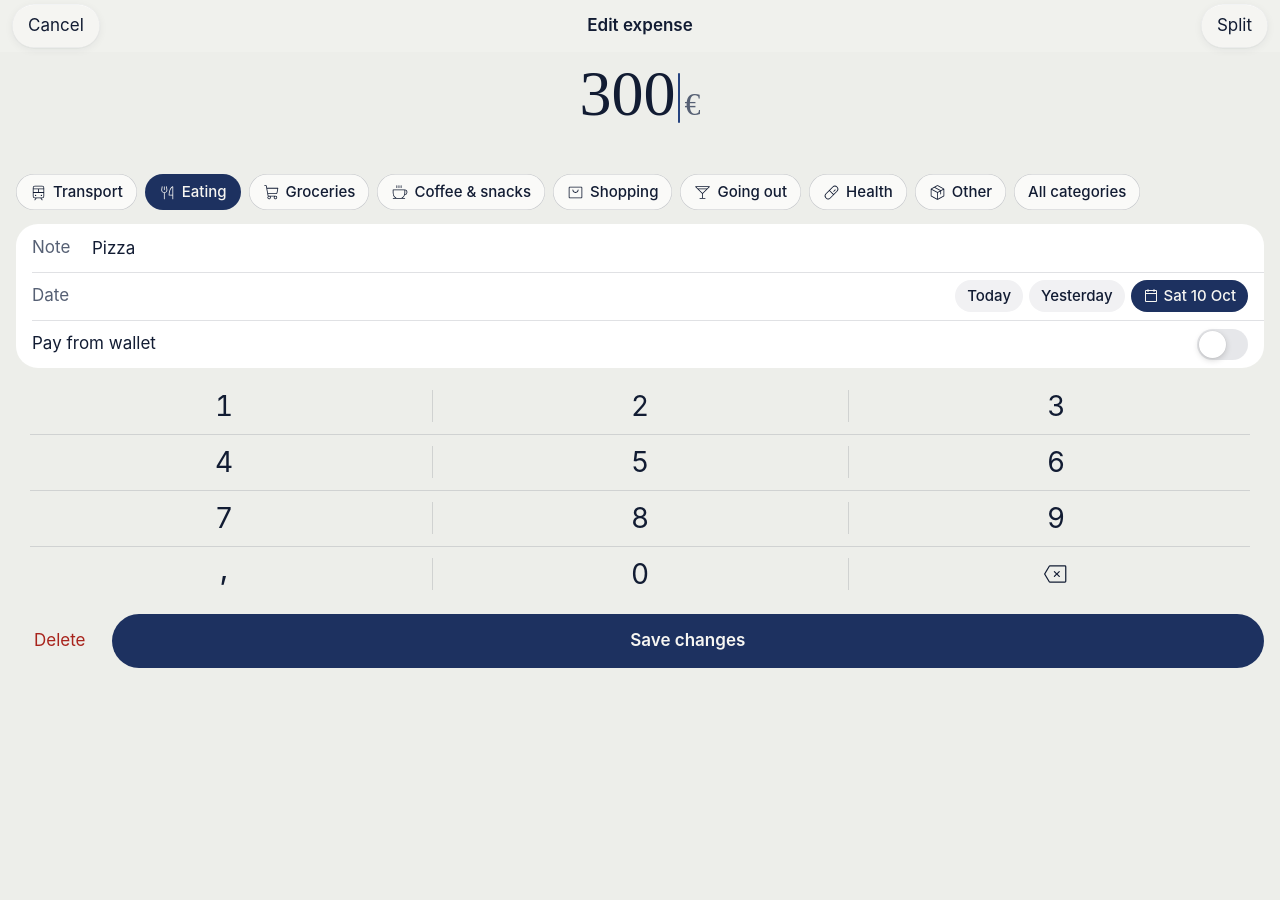
Test case: editing (§3.4) › replaces the amount with the first key and saves the change
The image size is (1280, 900).
Expected: the heading "Edit expense" is shown, [587,15,693,37]
Click the button "9". click: (1056, 518)
box: [848,490,1264,546]
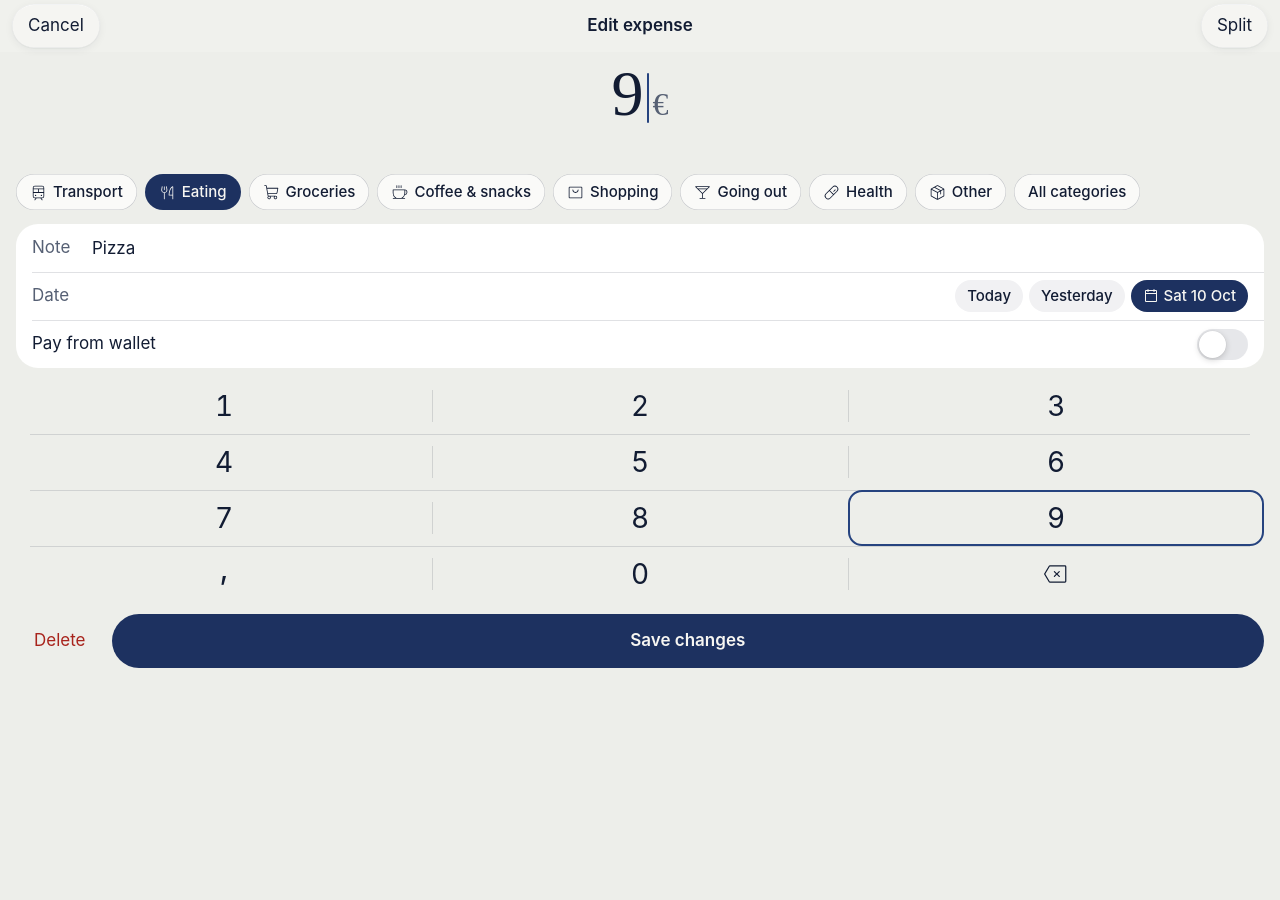
Click the button with test id "keypad-dec". click: (224, 574)
box: [16,546,432,602]
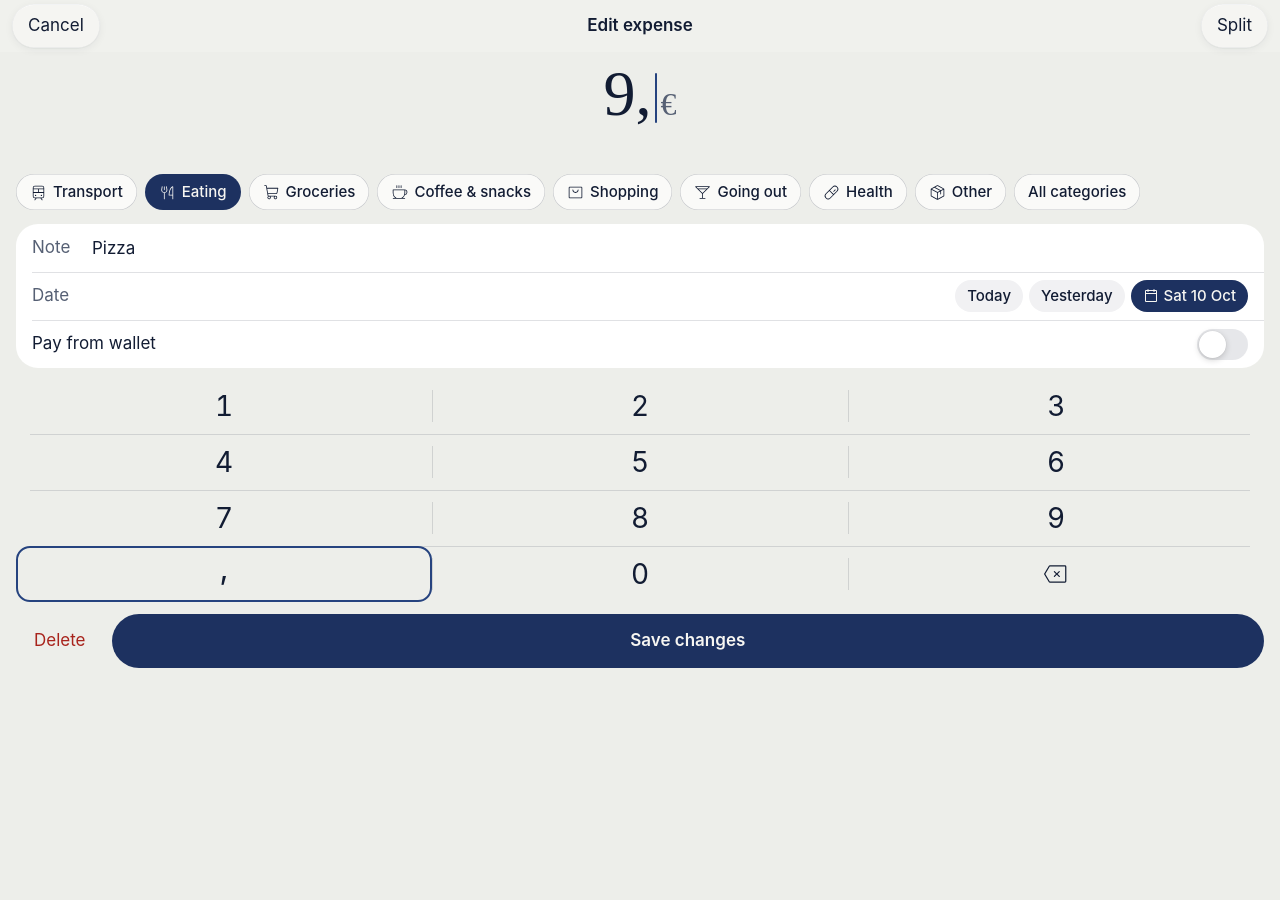
Click the button "9". click: (1056, 518)
box: [848,490,1264,546]
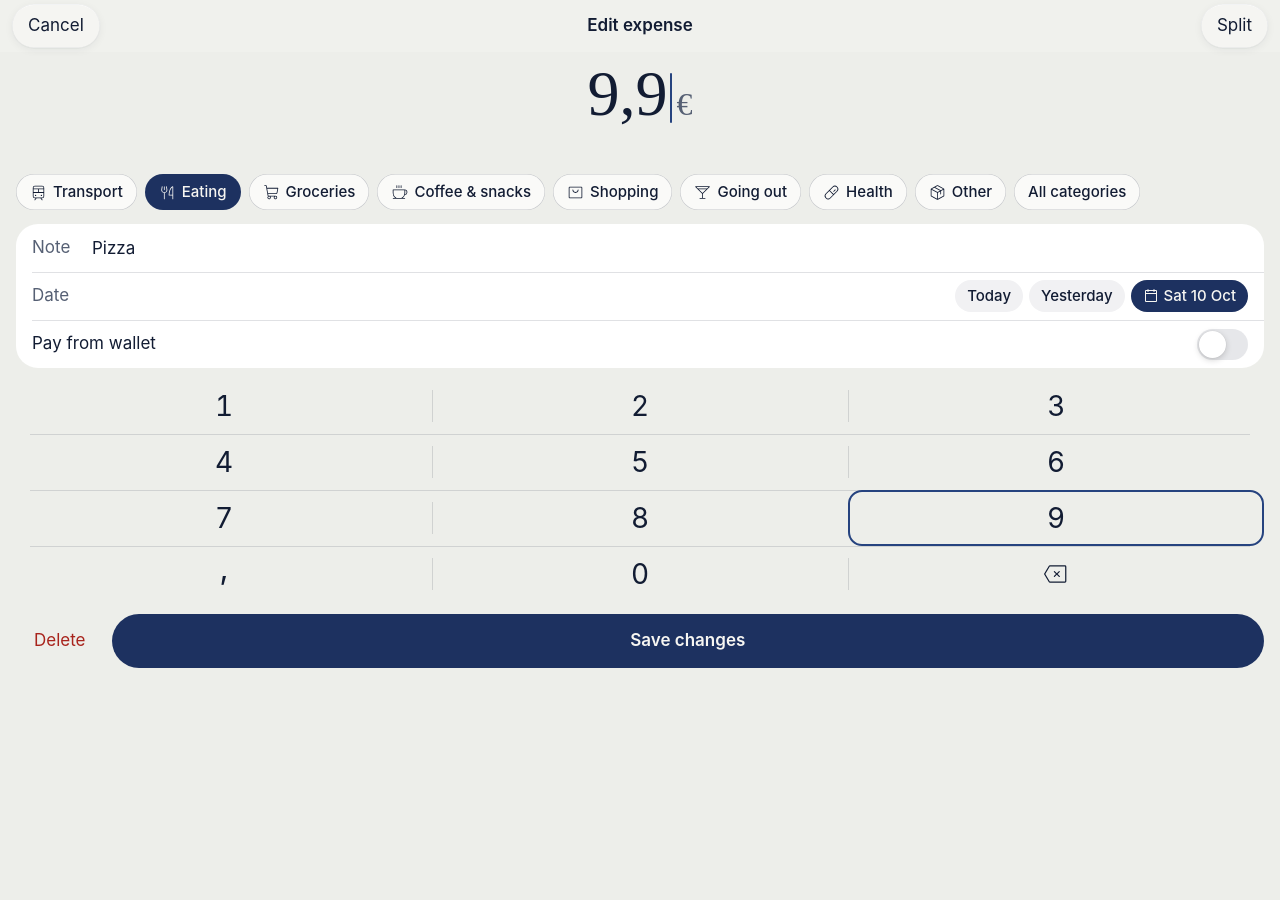
Click the button with test id "keypad-0". click: (640, 574)
box: [432,546,848,602]
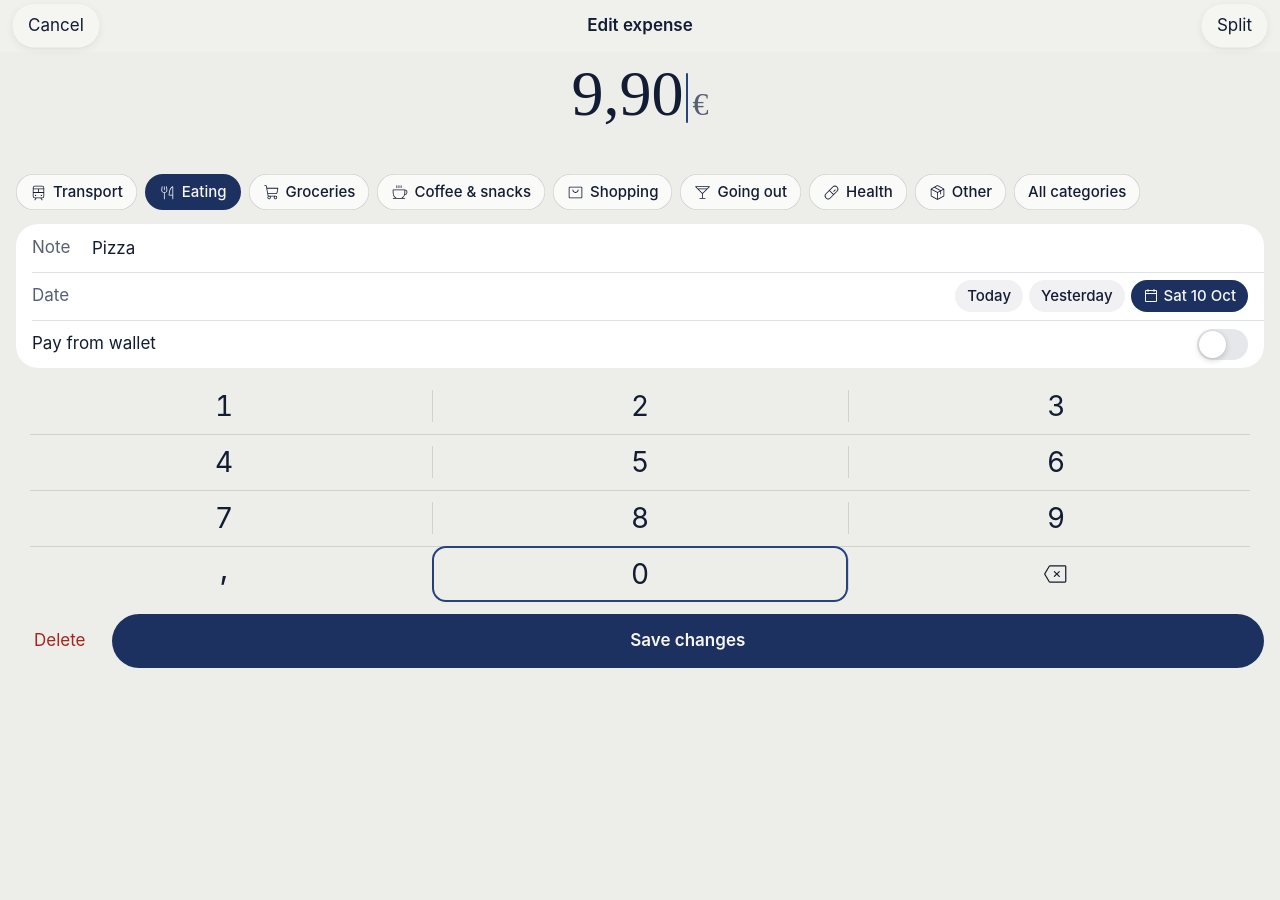
Click the button "Save changes". click: (688, 641)
box: [112,614,1264,668]
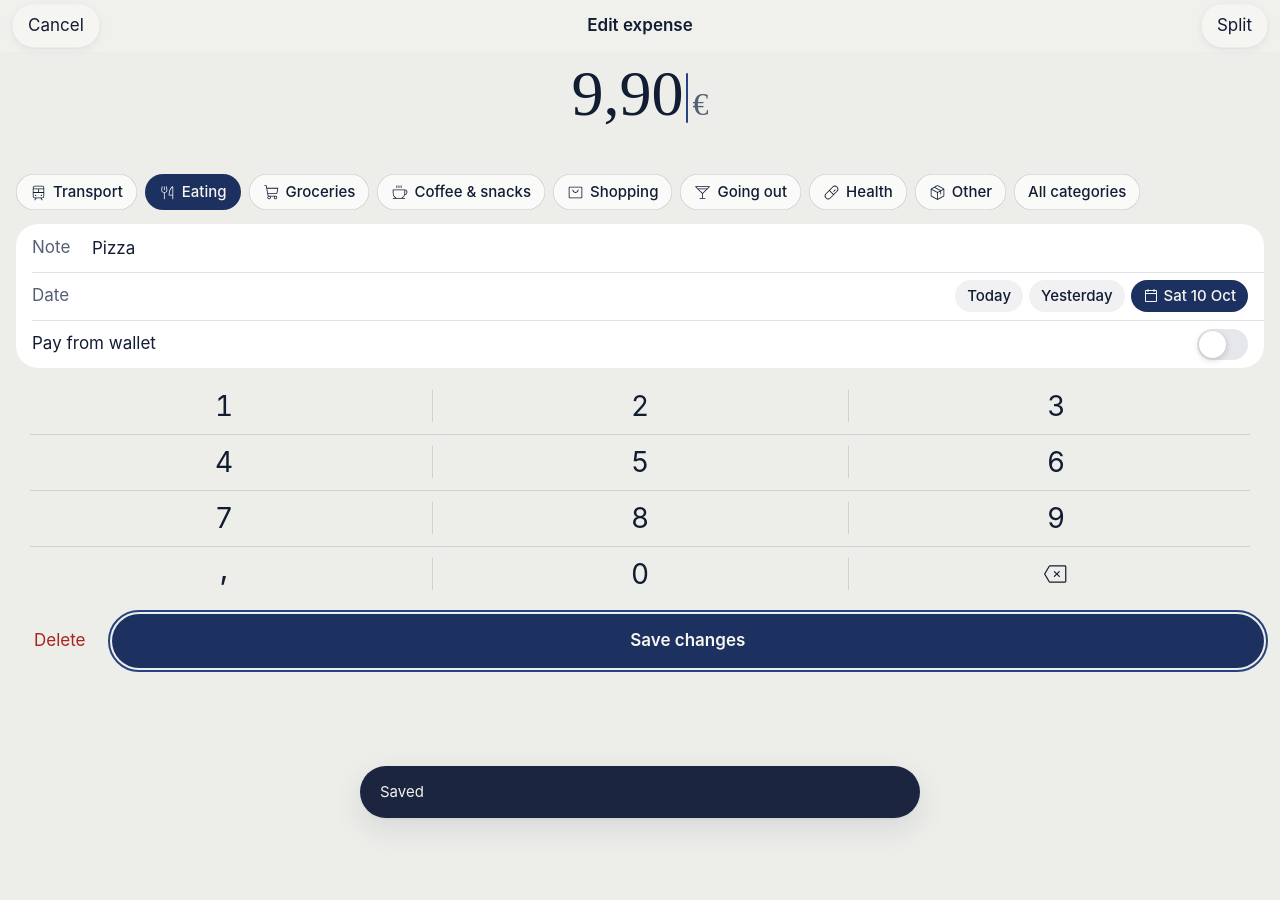
Expected: the text "Saved" is shown, [380,782,424,801]
